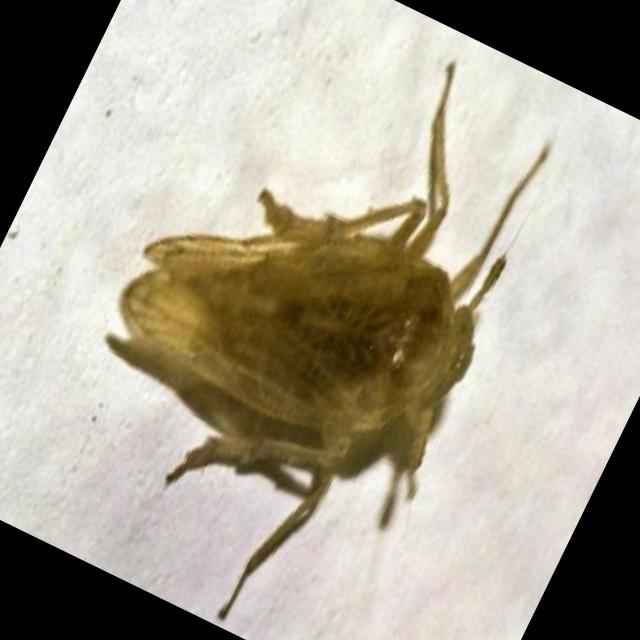brown-planthopper: (64, 94, 533, 556)
